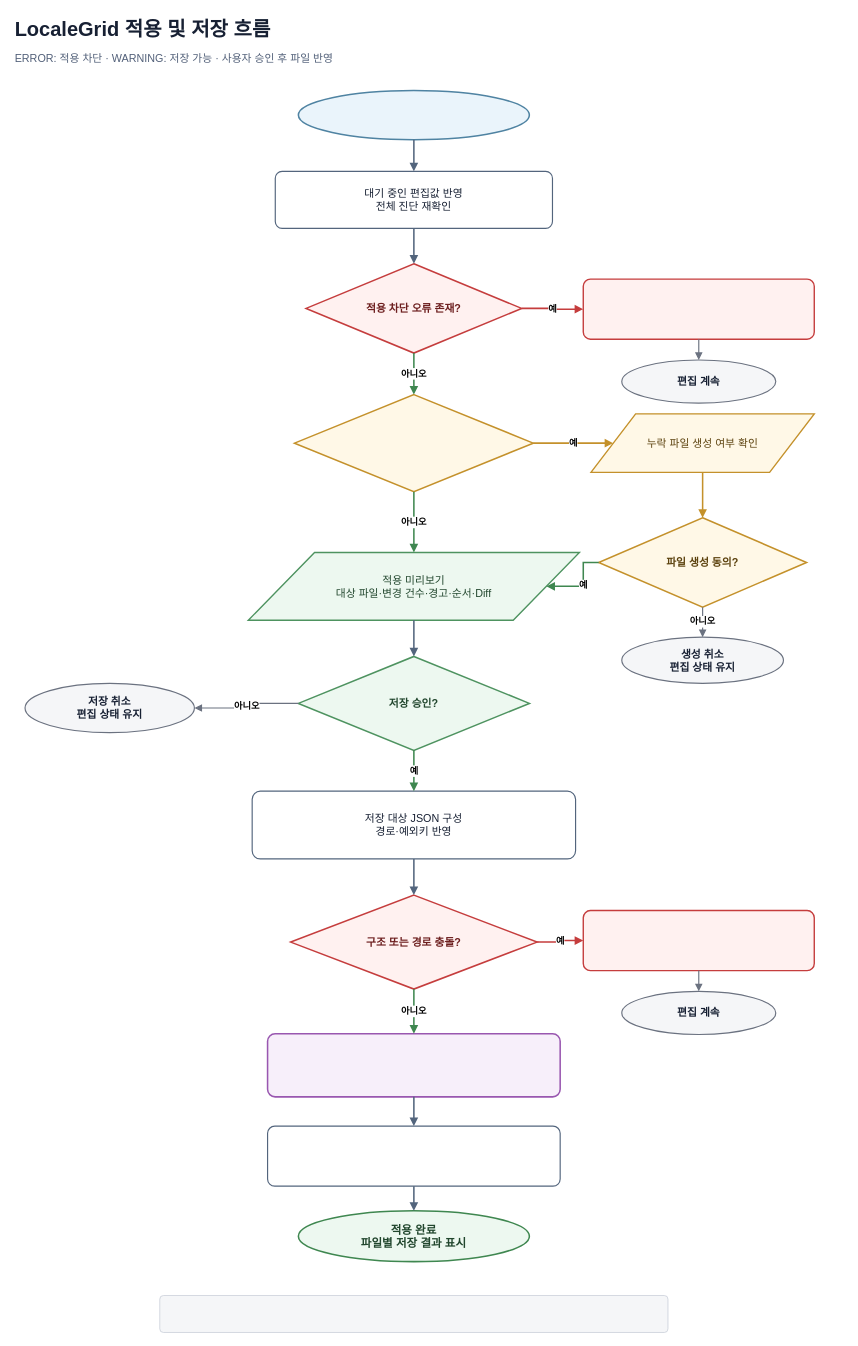
Some shapes in this 858 by 1346 pixel diagram are drawn without their labels. Here are the shapes that lost their labels. From the top down, the centre of each, then its label:
At point 413,114: "사용자가 적용 선택".
At point 698,308: "적용 차단 오류 위치·내용 표시".
At point 413,442: "값이 입력된 누락 locale 파일 존재?".
At point 698,940: "저장 중단 충돌 위치·내용 표시".
At point 413,1065: "승인된 변경 파일 저장 필요한 locale 파일 생성".
At point 413,1155: "저장 결과로 화면 갱신 상태와 진단 재확인".
At point 413,1313: "상태 규칙 | ERROR: 적용 차단 · WARNING: 기본 정책에서 저장 가능 · 사용자 취소: 파일 미변경".
